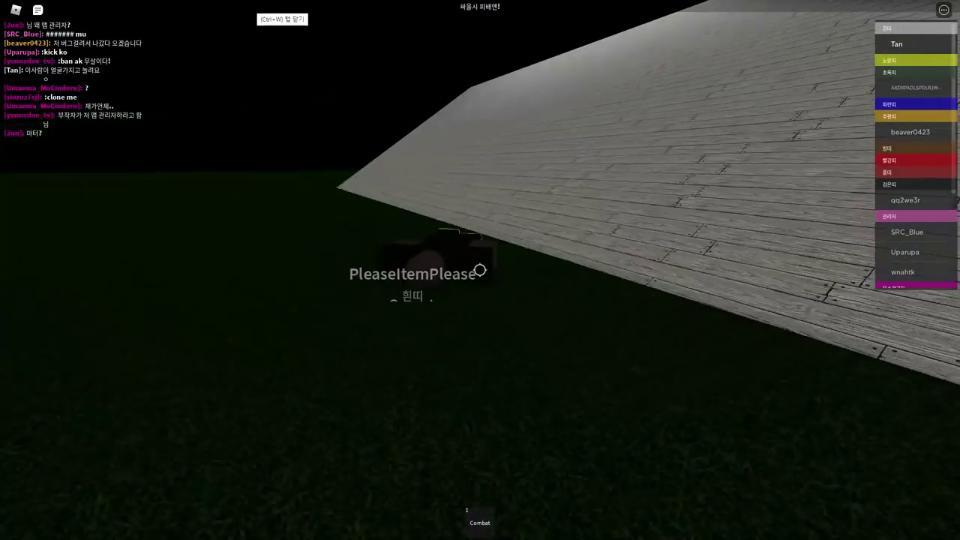Character: (378, 227, 496, 279)
